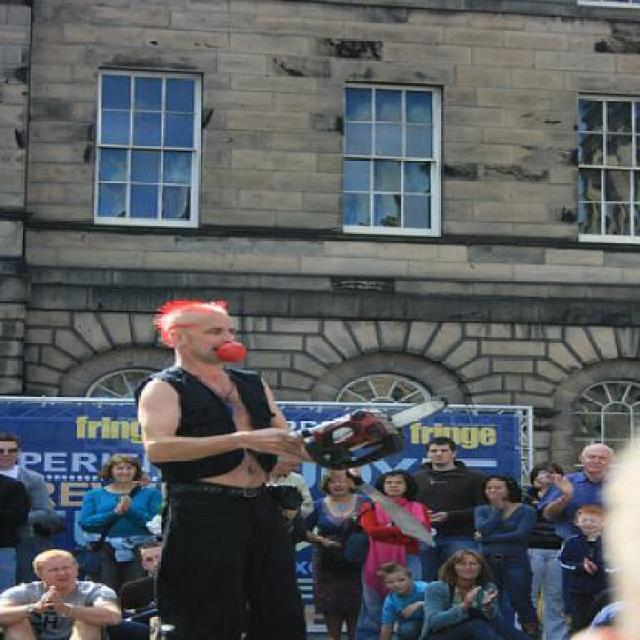Chainsaw: (291, 394, 449, 471)
